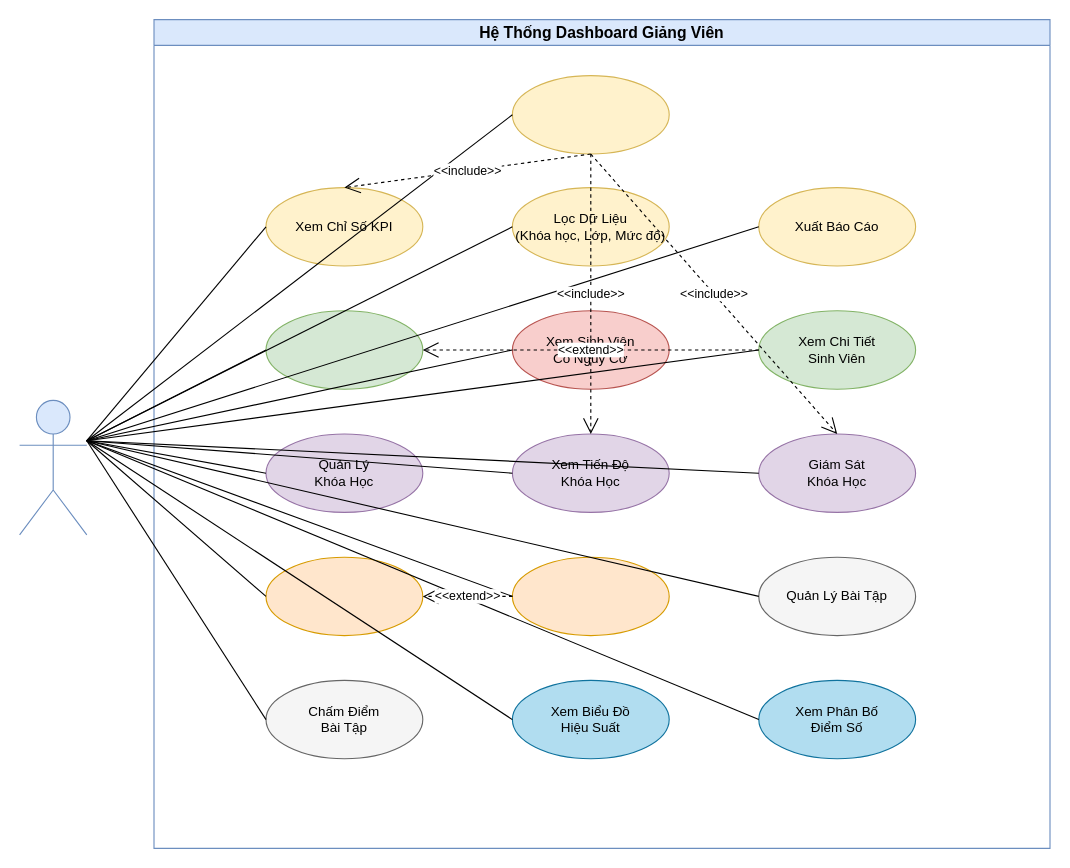
Some shapes in this 1070 by 868 pixel diagram are drawn without their labels. The shapes that lost their labels are listed below. From the top down, each one's centre as x and y in pixels, then its label:
(590,114): Xem Dashboard Tổng Quan
(344,349): Theo Dõi Sinh Viên
(52,467): Giảng Viên
(344,596): Quản Lý Lớp Học
(590,596): Xem Chi Tiết Lớp Học
